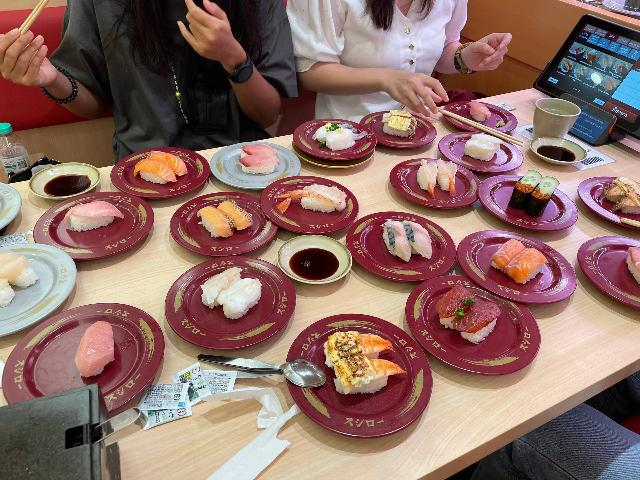jangold: (300, 154, 371, 170)
janred: (13, 309, 147, 415), (291, 324, 426, 425), (151, 269, 290, 350), (420, 297, 539, 373), (333, 198, 447, 268), (457, 235, 572, 301), (33, 198, 159, 256), (160, 187, 269, 240), (481, 172, 579, 230), (384, 156, 470, 212), (564, 168, 640, 229), (571, 238, 640, 302), (270, 184, 364, 230), (108, 152, 196, 196), (289, 114, 377, 157), (433, 135, 521, 170), (431, 99, 513, 131), (383, 107, 425, 150)
janwhite: (6, 239, 67, 321), (222, 140, 302, 187), (0, 184, 18, 232)
